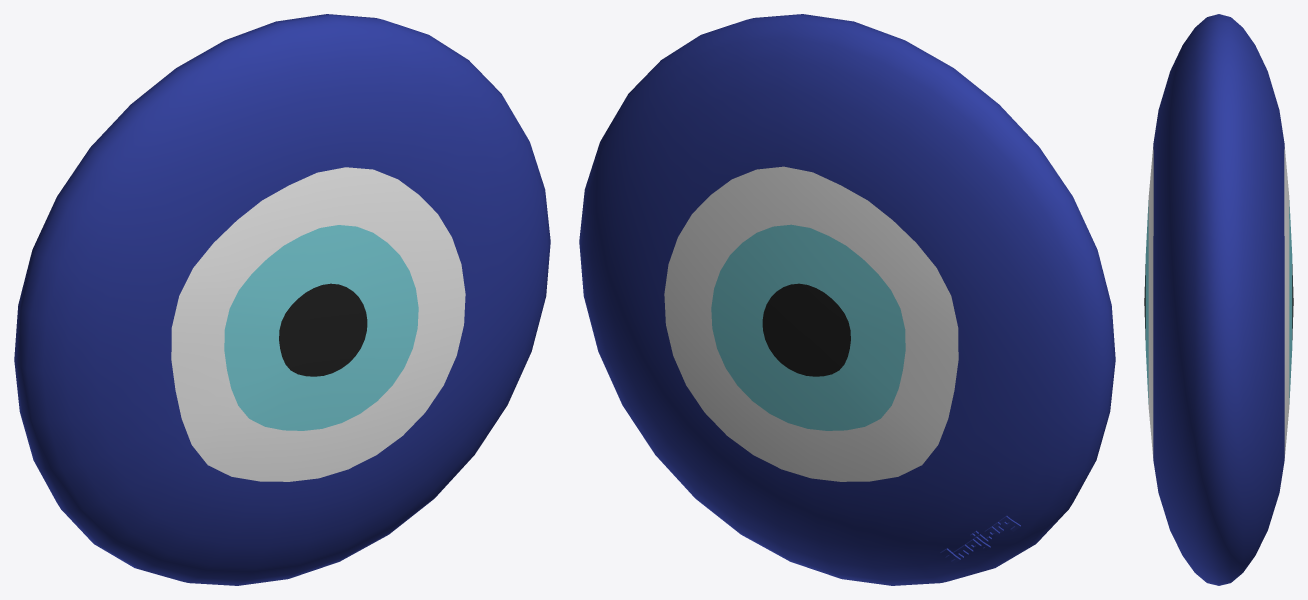
The model's file is nazar_amulet.fbx.
3 renders of one model, left to right at view 1: azimuth 30°, elevation 25°; view 2: azimuth 150°, elevation 25°; view 3: azimuth 270°, elevation 25°, orthographic. The views are drawn at different scales.
Parts seen in each view (by area): view 1: Nazar Amulet; view 2: Nazar Amulet; view 3: Nazar Amulet.
Boxes of the visible parts, box(x1,y1,x2,y2) form: Nazar Amulet: box(14, 14, 550, 585); Nazar Amulet: box(579, 14, 1115, 585); Nazar Amulet: box(1144, 14, 1293, 585).
Bounding box in the file's own units: 229 × 229 × 59.69.
Materials: 1 (1 with a texture image).
